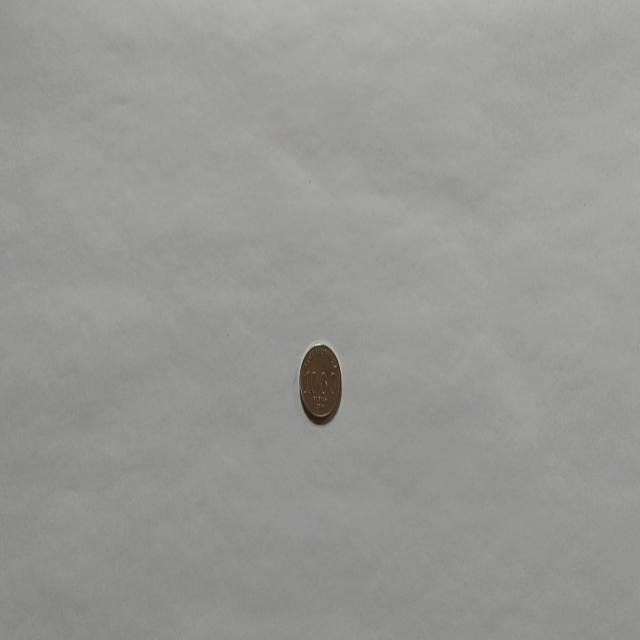seribu rupiah koin: (298, 341, 342, 424)
